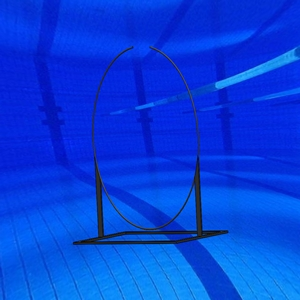circle: (72, 45, 229, 245)
